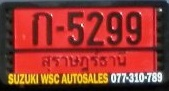txt01: (29, 11, 55, 46)
